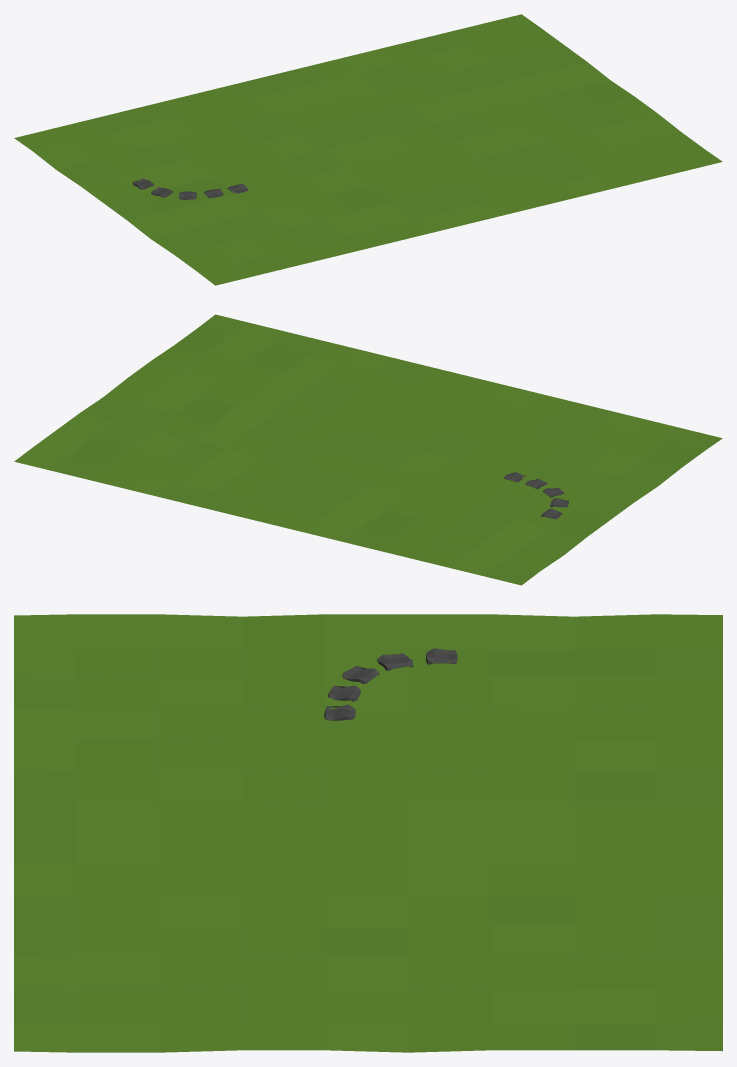
The model's file is Grond.fbx.
3 views of the same model, one above another, from view 1: azimuth 30°, elevation 25°; view 2: azimuth 150°, elevation 25°; view 3: azimuth 270°, elevation 25° (orthographic). The views are drawn at different scales.
Visible parts, largest first — view 1: Plane; view 2: Plane; view 3: Plane.
Part boxes in pixels (x1,y1,x2,y2): Plane: [14, 14, 722, 285]; Plane: [14, 314, 722, 585]; Plane: [14, 614, 722, 1052].
Size of the model in its own units: 2350 by 3420 by 20.3.
